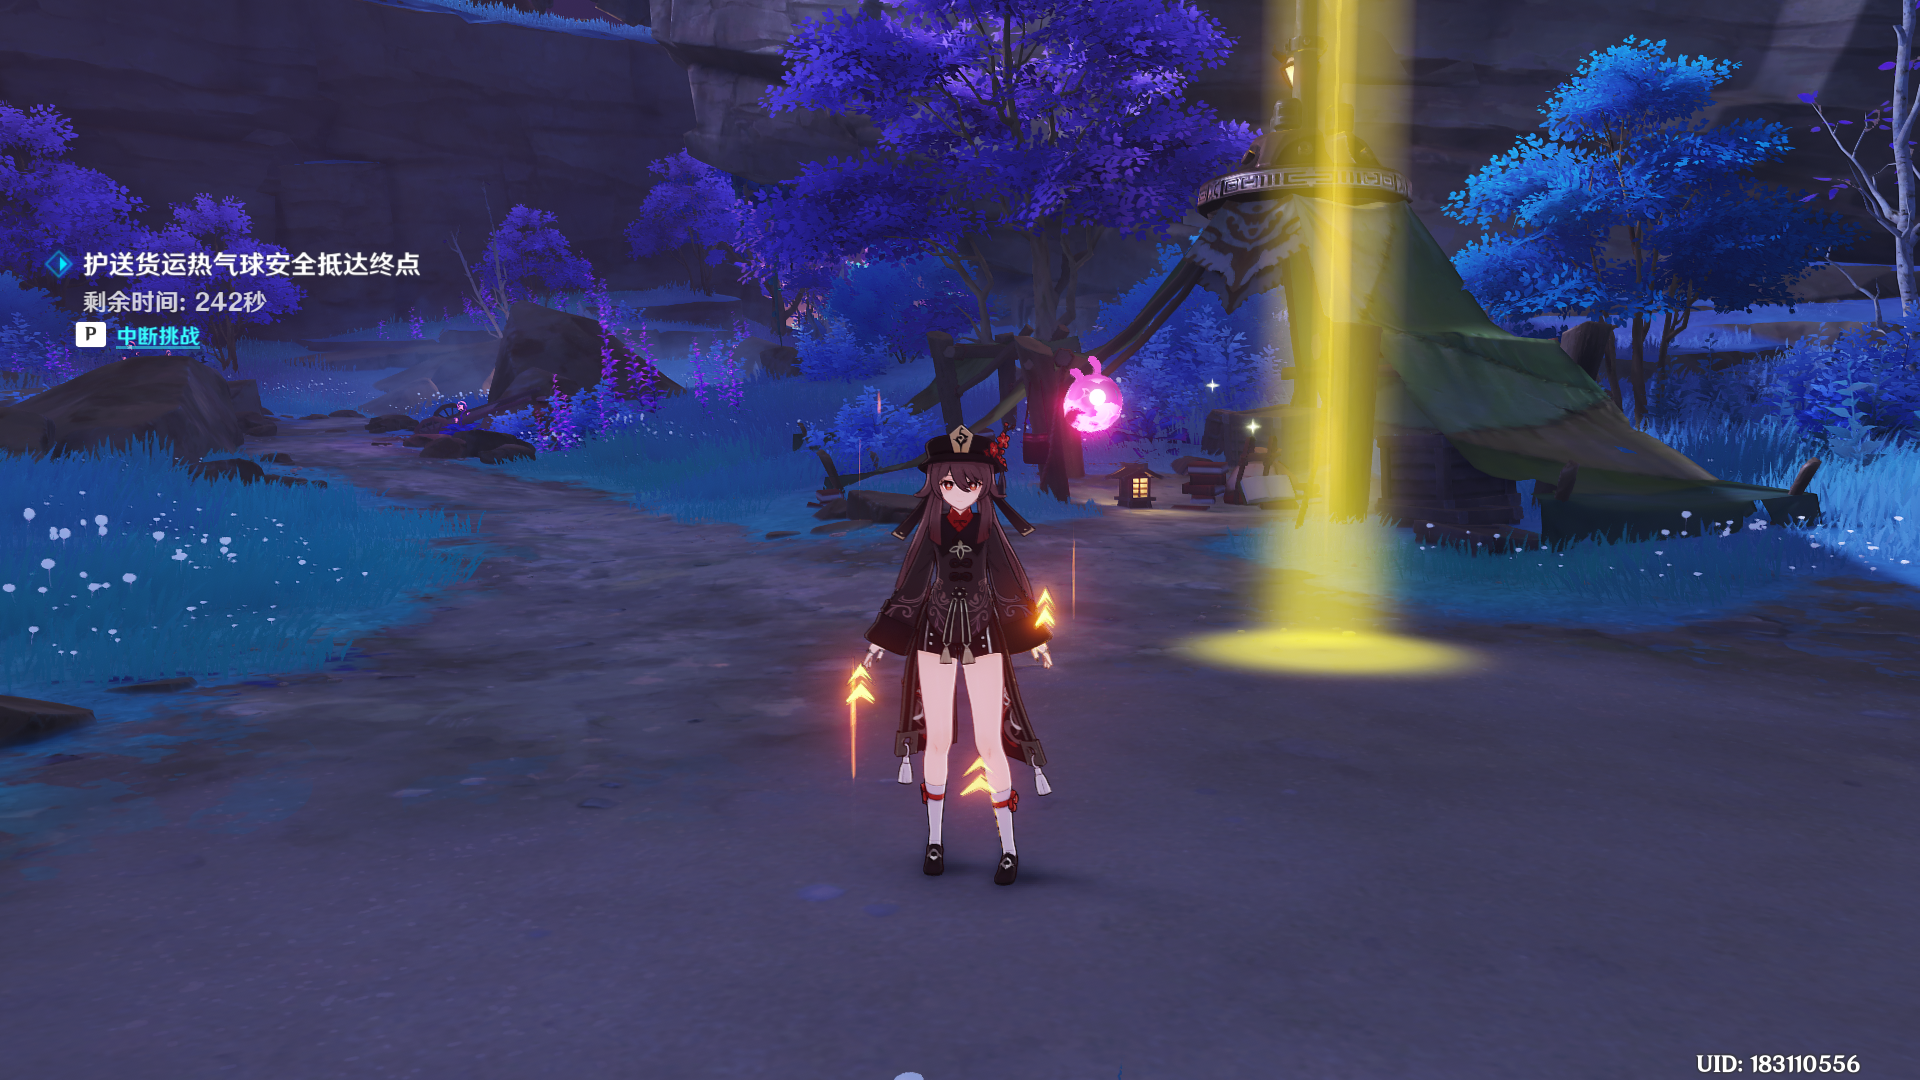character: (775, 415, 1131, 920)
